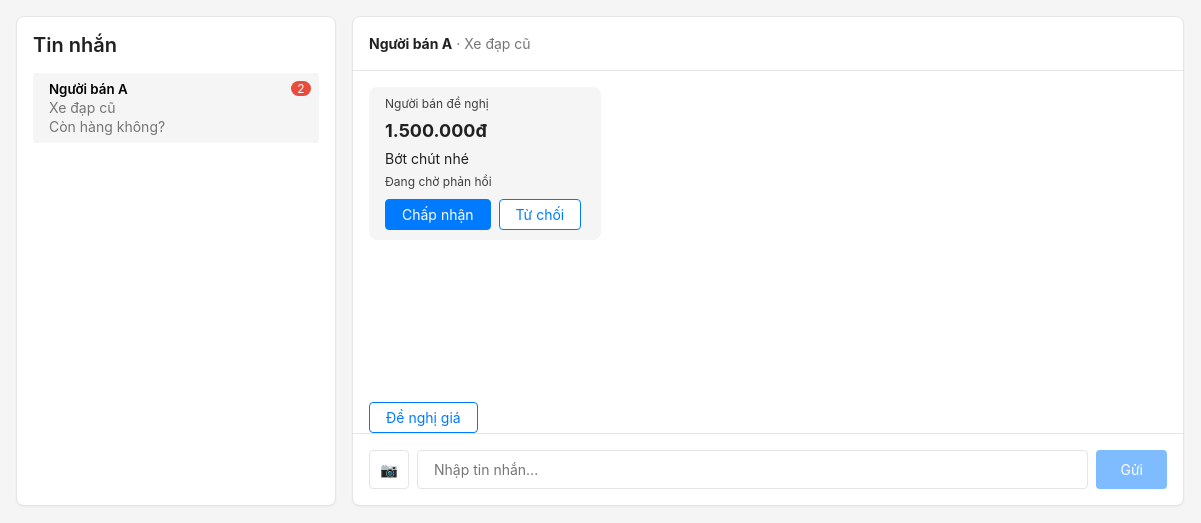
Test case: price offers in chat › a buyer sees the seller offer and can accept it
Check: the text "1.500.000đ" is shown, box [385,120,487,141]
Check: the text "Người bán đề nghị" is shown, box [385,96,489,111]
What coordinates should you click on to do the following:
click the button "Chấp nhận"
I would click on:
 (438, 214)
Its box is [385,199,491,230].
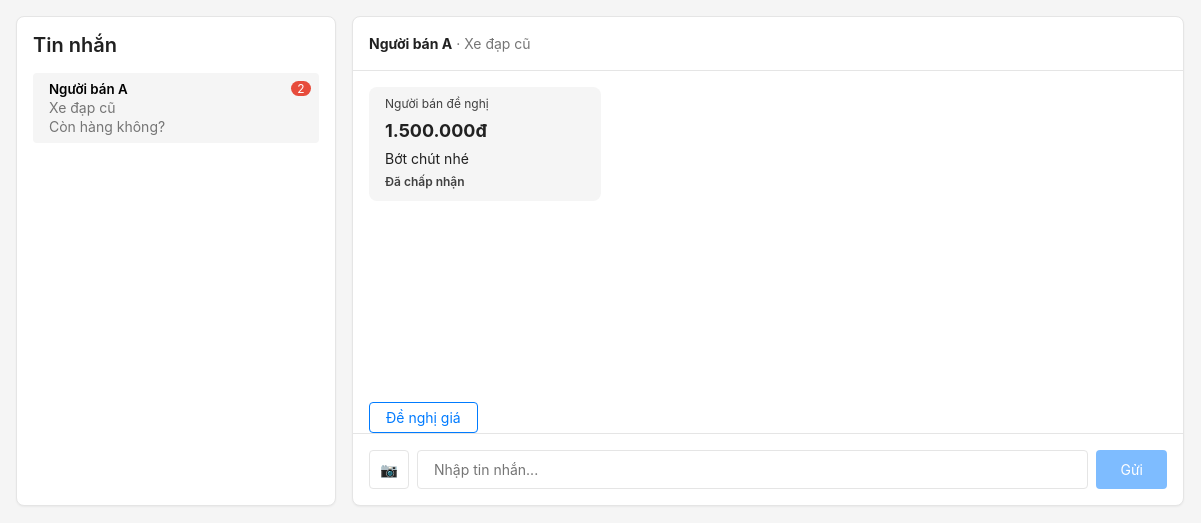
Check: the text "Đã chấp nhận" is shown, box [385,174,465,189]
